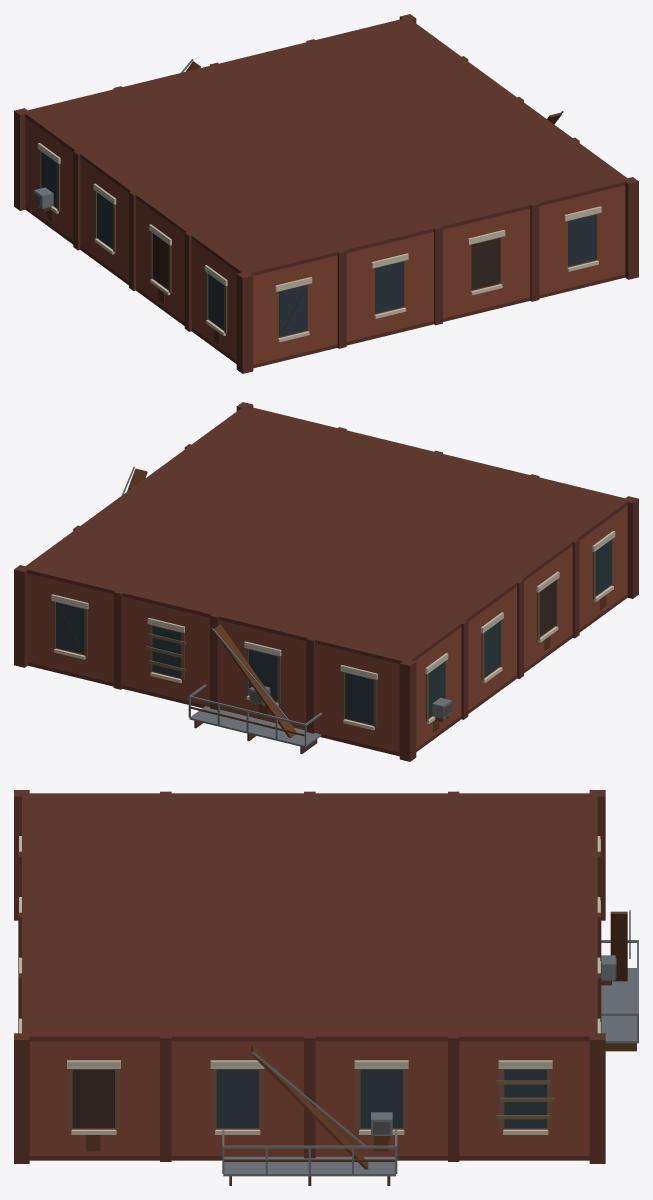
Rendered from tw_brick_16_floor.glb.
3 views of the same model, one above another, from view 1: azimuth 30°, elevation 25°; view 2: azimuth 150°, elevation 25°; view 3: azimuth 270°, elevation 25° (orthographic). The views are drawn at different scales.
Visible parts, largest first — view 1: tw_brick_16_floor; view 2: tw_brick_16_floor; view 3: tw_brick_16_floor.
Part boxes in pixels (<box>): tw_brick_16_floor: <box>14,14,638,373</box>; tw_brick_16_floor: <box>14,402,638,761</box>; tw_brick_16_floor: <box>14,790,638,1185</box>.
Size of what is drawn, in the model's own units: 17.68 by 4.07 by 17.37.
2 materials, 2 textured.
